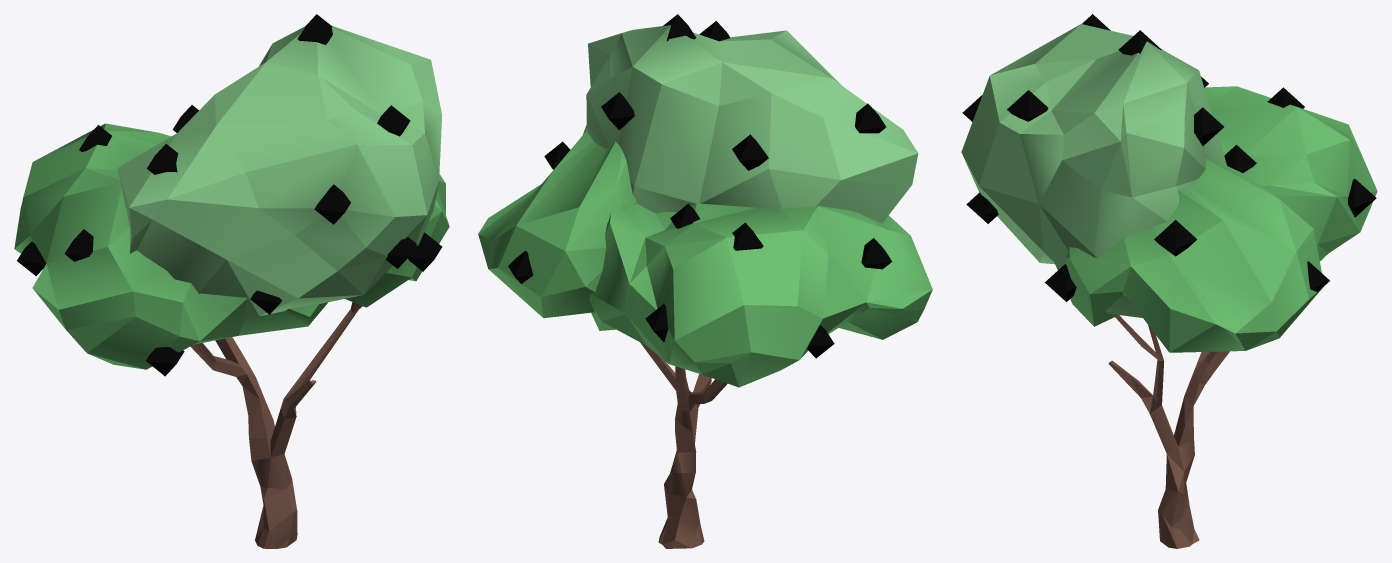
Rendered from tree_009.glb.
3 renders of one model, left to right at view 1: azimuth 30°, elevation 25°; view 2: azimuth 150°, elevation 25°; view 3: azimuth 270°, elevation 25°, orthographic. The views are drawn at different scales.
Visible parts, largest first — view 1: tree_009; view 2: tree_009; view 3: tree_009.
Boxes of the visible parts, x1,y1,x2,y2 form: tree_009: (14,14,449,548); tree_009: (478,14,932,548); tree_009: (961,14,1377,548).
Bounding box in the file's own units: 5.16 × 6.24 × 4.52.
1 material, 1 textured.
